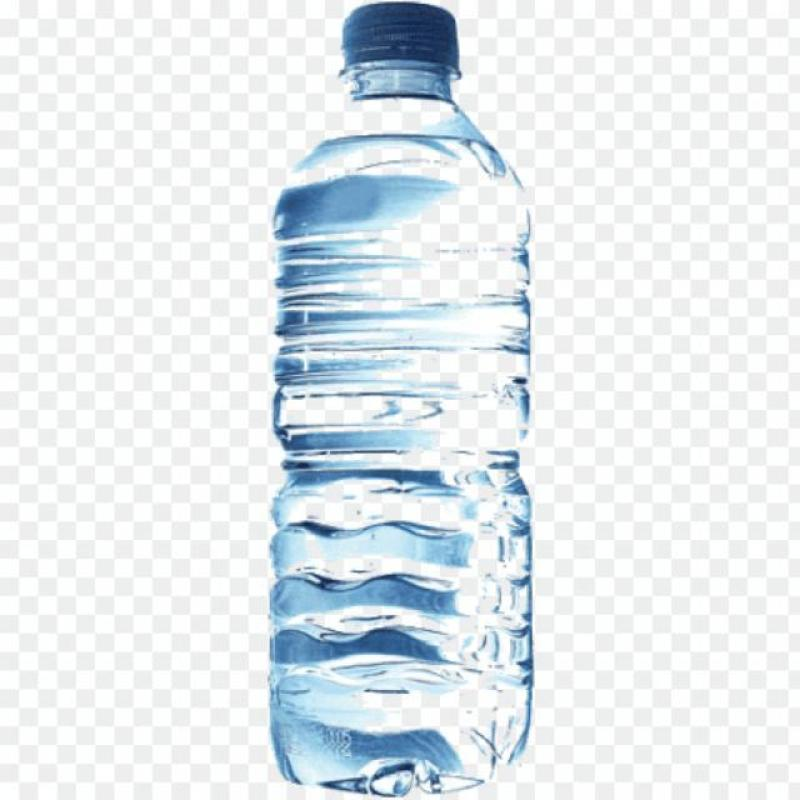botella: (273, 4, 536, 800)
